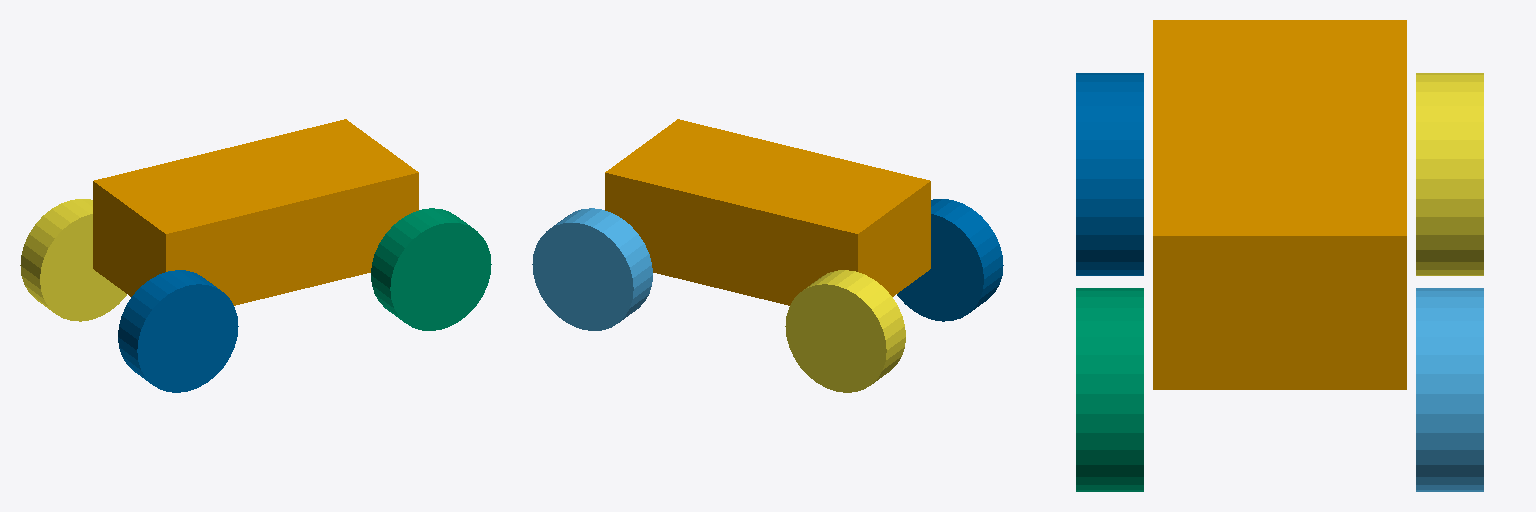
The robot description file, URDF, robot "bot":
<?xml version="1.0"?>
<robot name="bot">
  <link name="base_link">
    <visual>
      <geometry>

        <box size="0.3 0.15 0.1" />
      </geometry>
      <origin xyz="0 0 0.07"/>
    </visual>
  </link>
 <link name="wheel_right">
	<visual>
		<geometry>
			<cylinder length="0.04"  radius="0.06" />.
				</geometry>
	<origin  rpy="1.57075 1.57075 0" xyz="0.15 0.10 0.02" />
	<material name="white"/>
	</visual>
</link> 
<link name="wheel_left">
	<visual>
		<geometry>
			<cylinder length="0.04"  radius="0.06" />
				</geometry>
	<origin  rpy="1.57075 1.57075 0" xyz="0.15 -0.10 0.02" />
	<material name="white"/>
	</visual>
</link>
<joint name="base_to_left_leg" type="continuous">
    <parent link="base_link"/>
    <child link="wheel_left"/>
    <origin xvz="0.15 -0.10 0.02"/>
</joint> 
<link name="wheel_rb">
 <visual>
   <geometry>
	<cylinder length="0.04"  radius="0.06" />
				</geometry>
	<origin  rpy="1.57075 1.57075 0" xyz="-0.15 0.10 0.02" />
	<material name="white"/>
	</visual>
</link> 
<link name="wheel_lb">
 <visual>
   <geometry>
	<cylinder length="0.04"  radius="0.06" />
				</geometry>
	<origin  rpy="1.57075 1.57075 0" xyz="-0.15 -0.1 0.02" />
	<material name="White"/>
	</visual>
</link> 

<joint name="base_to_left_legback" type="continuous">
    <parent link="base_link"/>
    <child link="wheel_lb"/>
    <origin xvz="-0.15 -0.1 0.02"/>
</joint>


<joint name="base_to_right_leg" type="continuous">
    <parent link="base_link"/>
    <child link="wheel_right"/>
    <origin xvz="0.15 0.10 0.02"/>
</joint>
	
<joint name="base_to_right_legback" type="continuous">
    <parent link="base_link"/>
    <child link="wheel_rb"/>
    <origin xvz="-0.15 0.1 0.02"/>
</joint>
	
</robot>

--- Render facts (derived) ---
The picture shows the robot from 3 angles, left to right: view 1: azimuth 30°, elevation 25°; view 2: azimuth 150°, elevation 25°; view 3: azimuth 270°, elevation 25°; orthographic projection.
Robot: bot — 5 links, 4 joints (4 continuous); root link base_link; default pose: all joints at 0.
Links seen in each view (by area): view 1: base_link, wheel_lb, wheel_left, wheel_rb; view 2: base_link, wheel_rb, wheel_right, wheel_lb; view 3: base_link, wheel_right, wheel_left, wheel_rb, wheel_lb.
Boxes of the visible links, x1,y1,x2,y2 form: base_link: (93, 119, 418, 305); wheel_lb: (118, 270, 238, 392); wheel_left: (371, 208, 491, 330); wheel_rb: (20, 199, 126, 321); base_link: (605, 119, 930, 305); wheel_rb: (785, 270, 905, 392); wheel_right: (532, 208, 652, 330); wheel_lb: (897, 199, 1003, 321); base_link: (1153, 20, 1406, 389); wheel_right: (1416, 288, 1483, 491); wheel_left: (1076, 288, 1143, 491); wheel_rb: (1416, 73, 1483, 275); wheel_lb: (1076, 73, 1143, 275).
Bounding box of the posed robot: 0.42 × 0.24 × 0.16 m (x, y, z).
Geometry: primitives only (box / cylinder / sphere), no mesh files.
